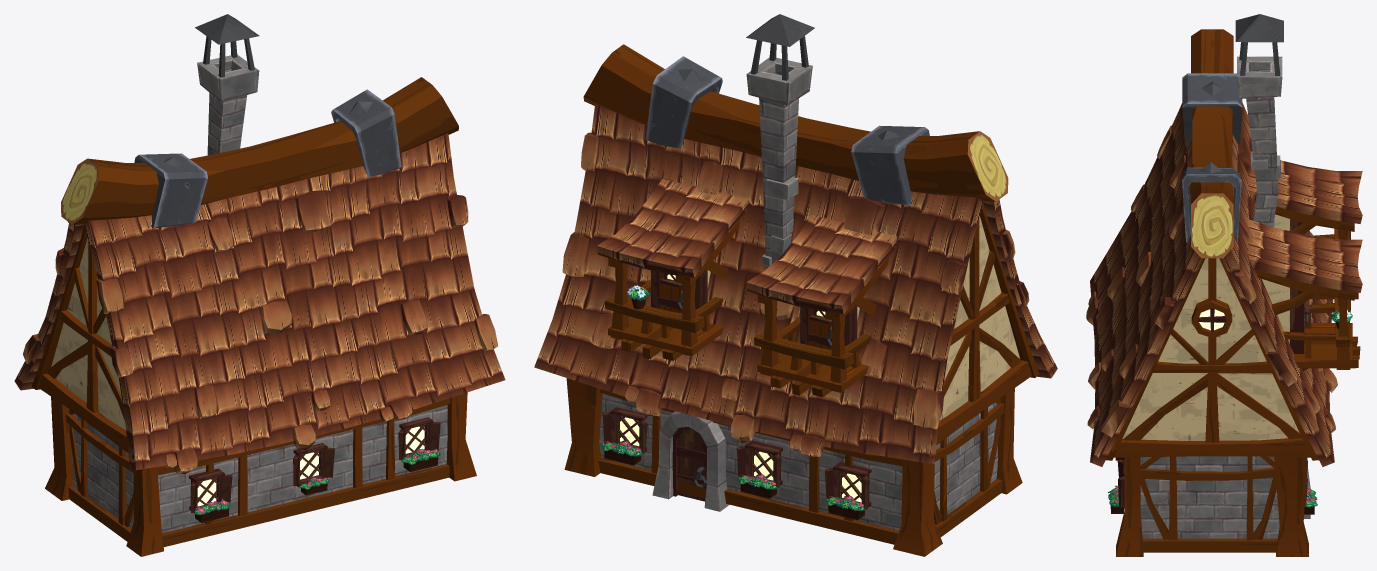
The model's file is Building5.fbx.
The picture shows the model from 3 angles, left to right: view 1: azimuth 30°, elevation 25°; view 2: azimuth 150°, elevation 25°; view 3: azimuth 270°, elevation 25°; orthographic projection. The views are drawn at different scales.
Parts seen in each view (by area): view 1: BP_BLD_house_3, SM_BLD_beam_big_v02_02, SM_BLD_chimney_v02_03, SM_BLD_window_v08_01_4, SM_BLD_window_v08_01_6, SM_BLD_window_v08_01_5, SM_PROP_PLANT_pot_v1_03_5, SM_PROP_PLANT_pot_v1_03_6; view 2: BP_BLD_house_3, SM_BLD_beam_big_v02_02, SM_BLD_balcony_v01_01_2, SM_BLD_balcony_v01_01_1, SM_BLD_chimney_v02_03, SM_BLD_door_v04_01, SM_BLD_window_v08_01_2, SM_BLD_window_v08_01_1, SM_BLD_window_v08_01_3, SM_PROP_PLANT_pot_v1_03_3, SM_PROP_PLANT_pot_v1_03_1, SM_PROP_PLANT_pot_v1_03_2; view 3: BP_BLD_house_3, SM_BLD_beam_big_v02_02, SM_BLD_balcony_v01_01_1, SM_BLD_chimney_v02_03, SM_BLD_balcony_v01_01_2, SM_BLD_window_v07_01.
Part boxes in pixels (bbox=[...]): BP_BLD_house_3: bbox=[14, 133, 505, 556]; SM_BLD_beam_big_v02_02: bbox=[61, 77, 458, 228]; SM_BLD_chimney_v02_03: bbox=[195, 14, 259, 155]; SM_BLD_window_v08_01_4: bbox=[293, 443, 334, 487]; SM_BLD_window_v08_01_6: bbox=[189, 468, 232, 514]; SM_BLD_window_v08_01_5: bbox=[398, 417, 440, 460]; SM_PROP_PLANT_pot_v1_03_5: bbox=[401, 448, 440, 472]; SM_PROP_PLANT_pot_v1_03_6: bbox=[194, 499, 231, 522]; BP_BLD_house_3: bbox=[534, 104, 1057, 556]; SM_BLD_beam_big_v02_02: bbox=[583, 44, 1008, 205]; SM_BLD_balcony_v01_01_2: bbox=[746, 214, 897, 397]; SM_BLD_balcony_v01_01_1: bbox=[597, 179, 748, 360]; SM_BLD_chimney_v02_03: bbox=[746, 14, 814, 268]; SM_BLD_door_v04_01: bbox=[652, 411, 729, 511]; SM_BLD_window_v08_01_2: bbox=[825, 462, 871, 510]; SM_BLD_window_v08_01_1: bbox=[736, 440, 782, 487]; SM_BLD_window_v08_01_3: bbox=[602, 407, 647, 453]; SM_PROP_PLANT_pot_v1_03_3: bbox=[601, 440, 643, 465]; SM_PROP_PLANT_pot_v1_03_1: bbox=[737, 473, 780, 498]; SM_PROP_PLANT_pot_v1_03_2: bbox=[825, 495, 867, 520]; BP_BLD_house_3: bbox=[1086, 103, 1337, 556]; SM_BLD_beam_big_v02_02: bbox=[1182, 29, 1242, 258]; SM_BLD_balcony_v01_01_1: bbox=[1248, 219, 1362, 371]; SM_BLD_chimney_v02_03: bbox=[1235, 14, 1283, 227]; SM_BLD_balcony_v01_01_2: bbox=[1248, 151, 1362, 299]; SM_BLD_window_v07_01: bbox=[1191, 299, 1232, 338].
Size of the model in its own units: 1346 by 1518 by 829.
